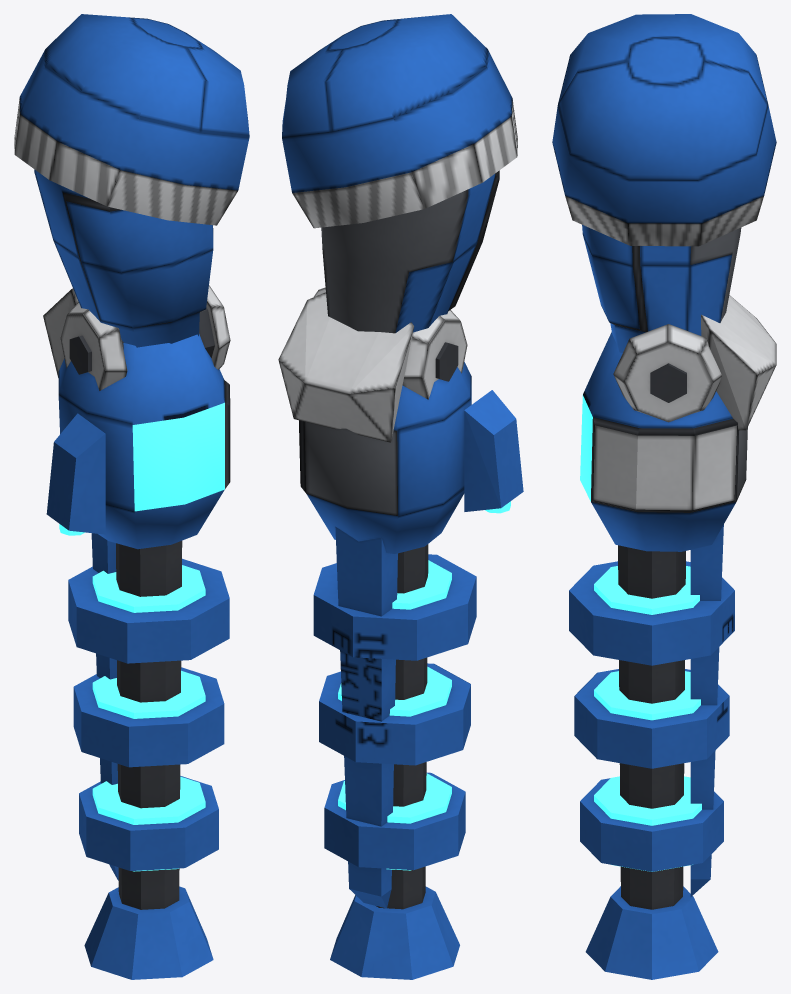
File: RightIonPulseGunArmX.glb
3 renders of one model, left to right at view 1: azimuth 30°, elevation 25°; view 2: azimuth 150°, elevation 25°; view 3: azimuth 270°, elevation 25°, orthographic.
Parts seen in each view (by area): view 1: RightIonPulseGunArmX_Fore, RightIonPulseGunArmX_Upper; view 2: RightIonPulseGunArmX_Fore, RightIonPulseGunArmX_Upper; view 3: RightIonPulseGunArmX_Fore, RightIonPulseGunArmX_Upper.
Part boxes in pixels (x1,y1,x2,y2): RightIonPulseGunArmX_Fore: (43, 285, 230, 979); RightIonPulseGunArmX_Upper: (14, 14, 249, 347); RightIonPulseGunArmX_Fore: (278, 287, 523, 979); RightIonPulseGunArmX_Upper: (282, 14, 517, 333); RightIonPulseGunArmX_Fore: (569, 295, 776, 979); RightIonPulseGunArmX_Upper: (552, 14, 776, 352).
Bounding box in the file's own units: 4.12 × 18.33 × 4.05.
6 materials, 5 textured.
